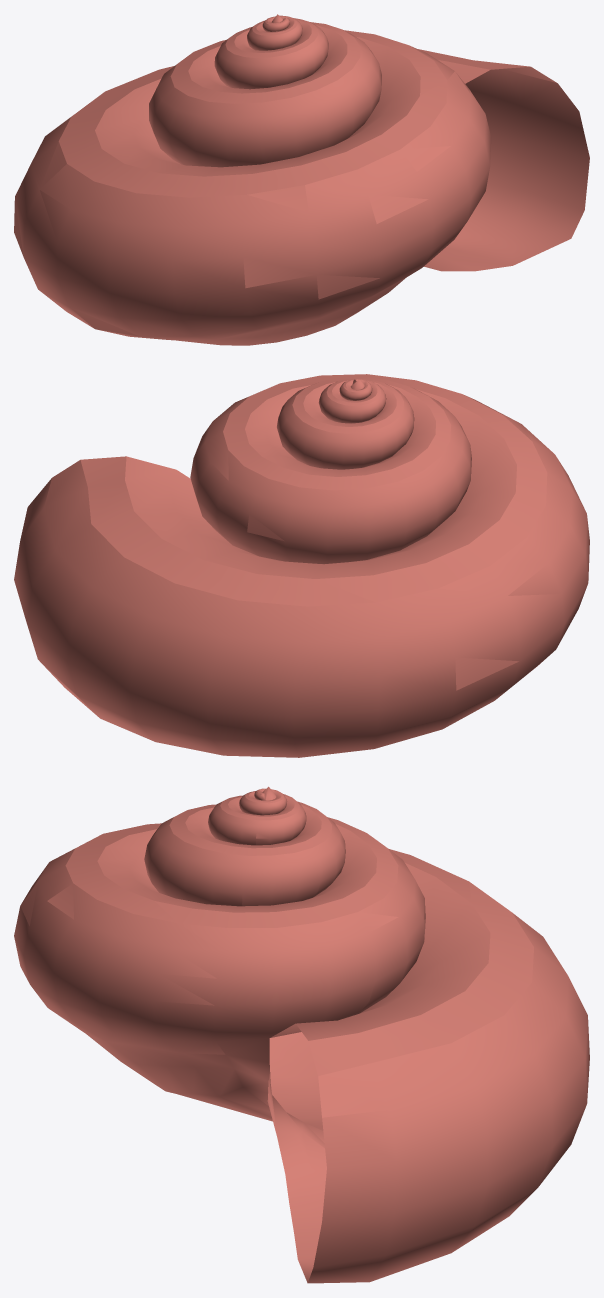
File: ZpuKucica.fbx
3 views of the same model, one above another, from view 1: azimuth 30°, elevation 25°; view 2: azimuth 150°, elevation 25°; view 3: azimuth 270°, elevation 25° (orthographic). The views are drawn at different scales.
Visible parts, largest first — view 1: snail002__0; view 2: snail002__0; view 3: snail002__0.
Part boxes in pixels (box(x1,y1,x2,y2)): snail002__0: box(14, 14, 589, 345); snail002__0: box(14, 374, 589, 757); snail002__0: box(14, 786, 589, 1283).
Bounding box in the file's own units: 5252 × 2949 × 4406.
